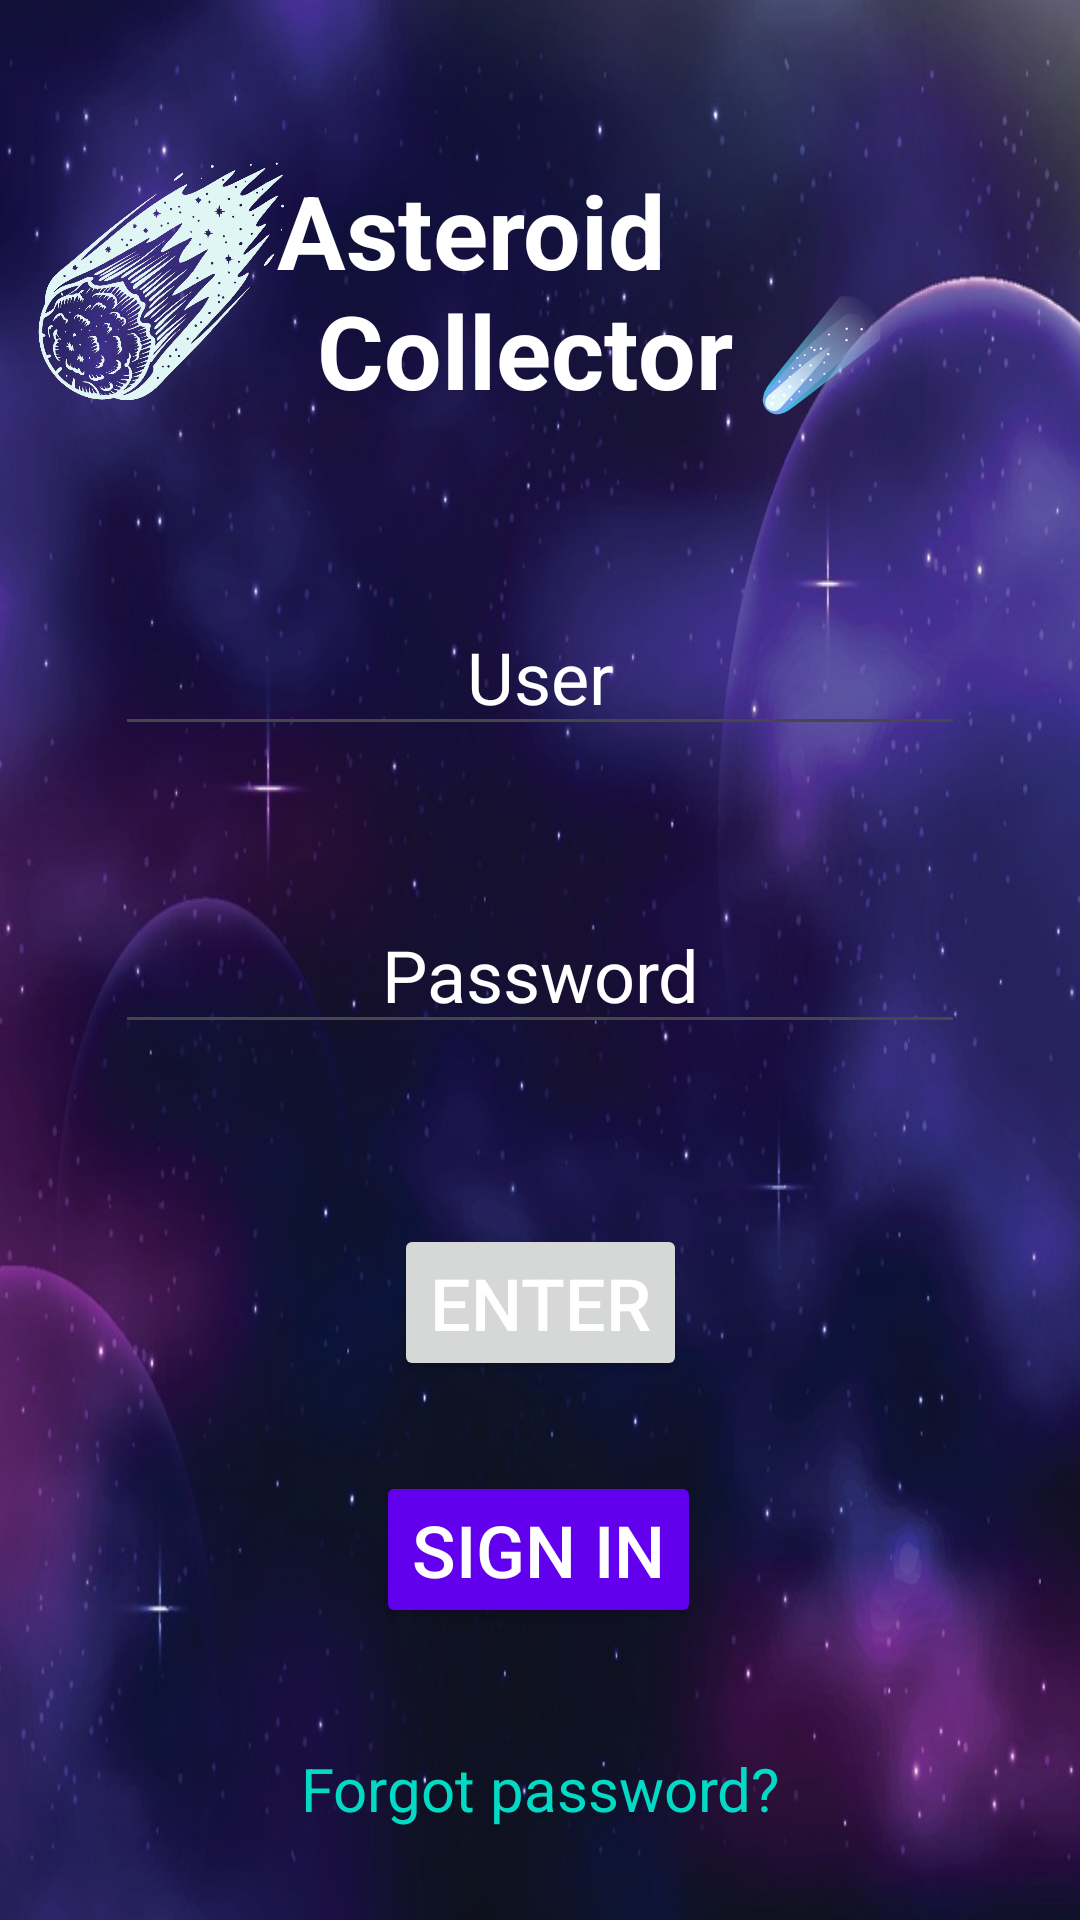

Icons on this 1080×1920 Android screen, each with its box as {"x1": x1, "y1": y1, "x2": x2, "y2": y2}:
meteor: {"x1": 21, "y1": 150, "x2": 300, "y2": 423}
